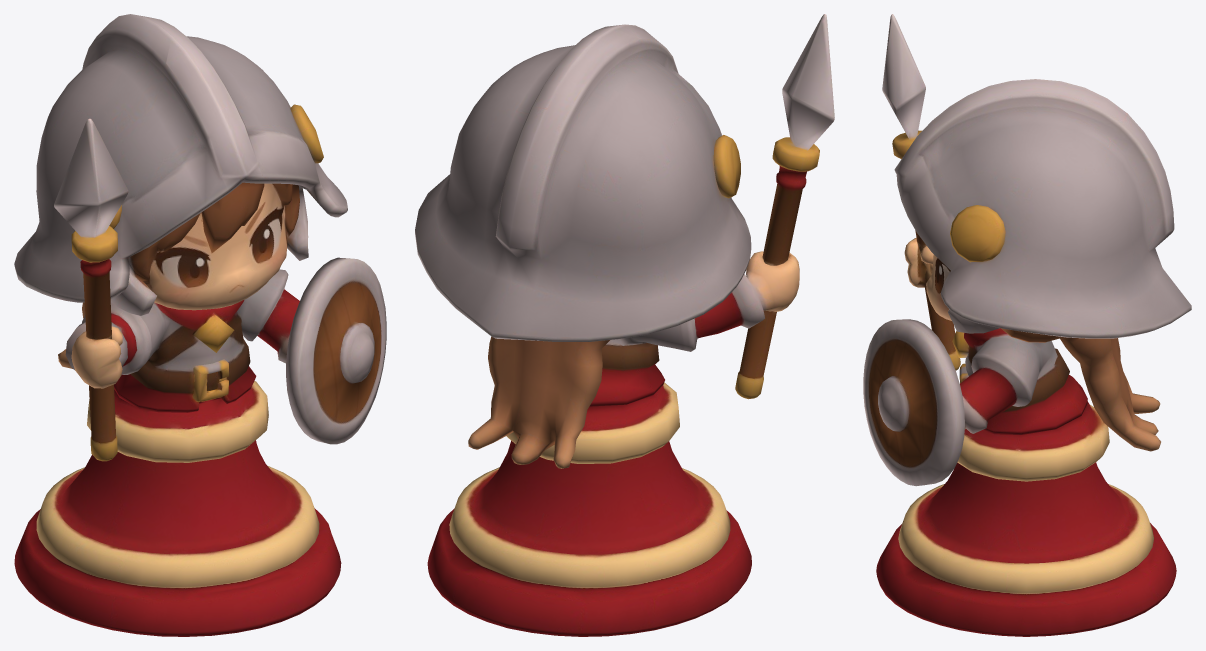
File: warrior_1.glb
The picture shows the model from 3 angles, left to right: view 1: azimuth 30°, elevation 25°; view 2: azimuth 150°, elevation 25°; view 3: azimuth 270°, elevation 25°; orthographic projection. The views are drawn at different scales.
Visible parts, largest first — view 1: tripo_node_f959bb44-e0c8-42bd-93a7-430fdb1f8fea; view 2: tripo_node_f959bb44-e0c8-42bd-93a7-430fdb1f8fea; view 3: tripo_node_f959bb44-e0c8-42bd-93a7-430fdb1f8fea.
Boxes of the visible parts, bbox=[...] form: tripo_node_f959bb44-e0c8-42bd-93a7-430fdb1f8fea: bbox=[14, 14, 386, 636]; tripo_node_f959bb44-e0c8-42bd-93a7-430fdb1f8fea: bbox=[415, 14, 834, 636]; tripo_node_f959bb44-e0c8-42bd-93a7-430fdb1f8fea: bbox=[863, 14, 1191, 636].
Bounding box in the file's own units: 0.6802 × 0.9995 × 0.6069.
Materials: 1 (1 with a texture image).
